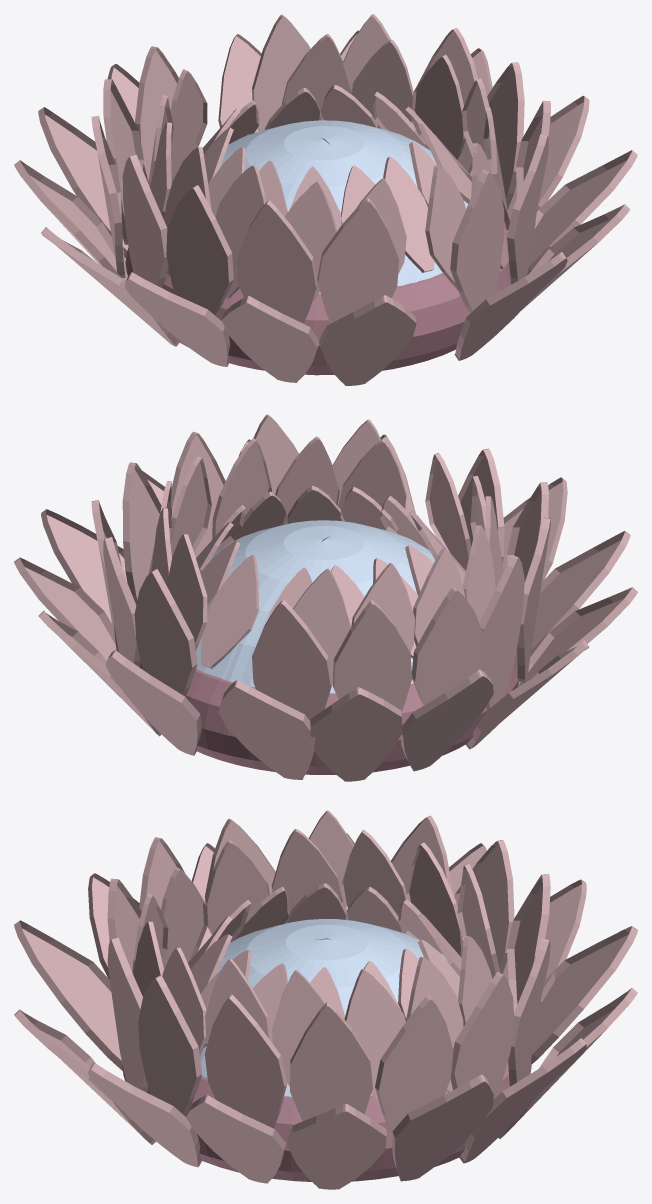
Rendered from galeria_estructura.glb.
The picture shows the model from 3 angles, top to bottom: view 1: azimuth 30°, elevation 25°; view 2: azimuth 150°, elevation 25°; view 3: azimuth 270°, elevation 25°; orthographic projection. The views are drawn at different scales.
Parts seen in each view (by area): view 1: Sphere; view 2: Sphere; view 3: Sphere.
Boxes of the visible parts, bbox=[...] form: Sphere: bbox=[14, 14, 637, 385]; Sphere: bbox=[14, 414, 637, 781]; Sphere: bbox=[14, 810, 637, 1189].
Size of the model in its own units: 181 by 65.36 by 173.
